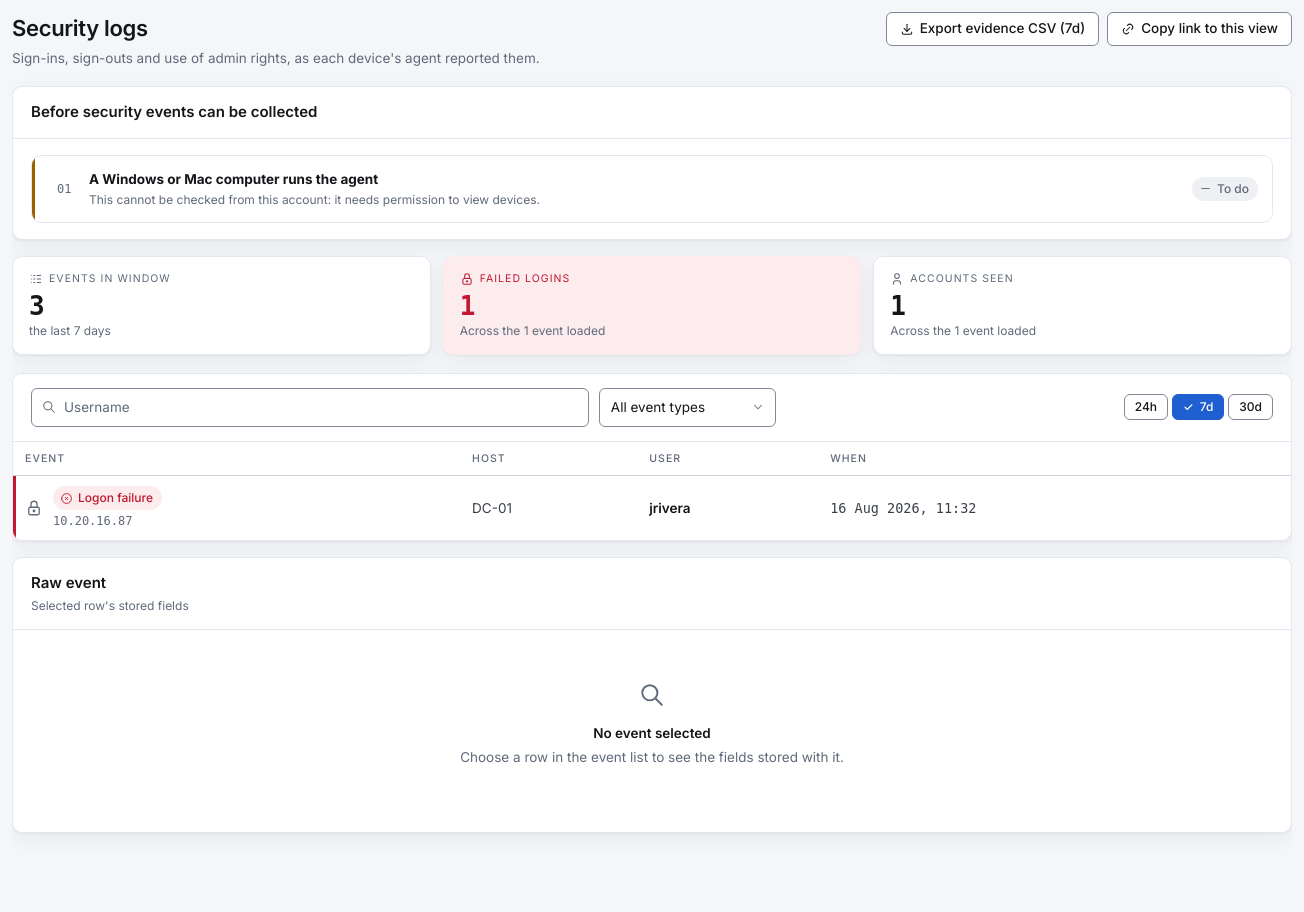
Test case: the stat tiles open the search behind them › actually navigates and re-runs the search when a tile is followed
The width and height of the screenshot is (1304, 912).
Expected: the text "DC-01" is shown, 460,476 -> 637,540
Click the link with class "stat-card" that starts with "Failed logins". click: (525, 278)
box: 443,256 -> 861,355
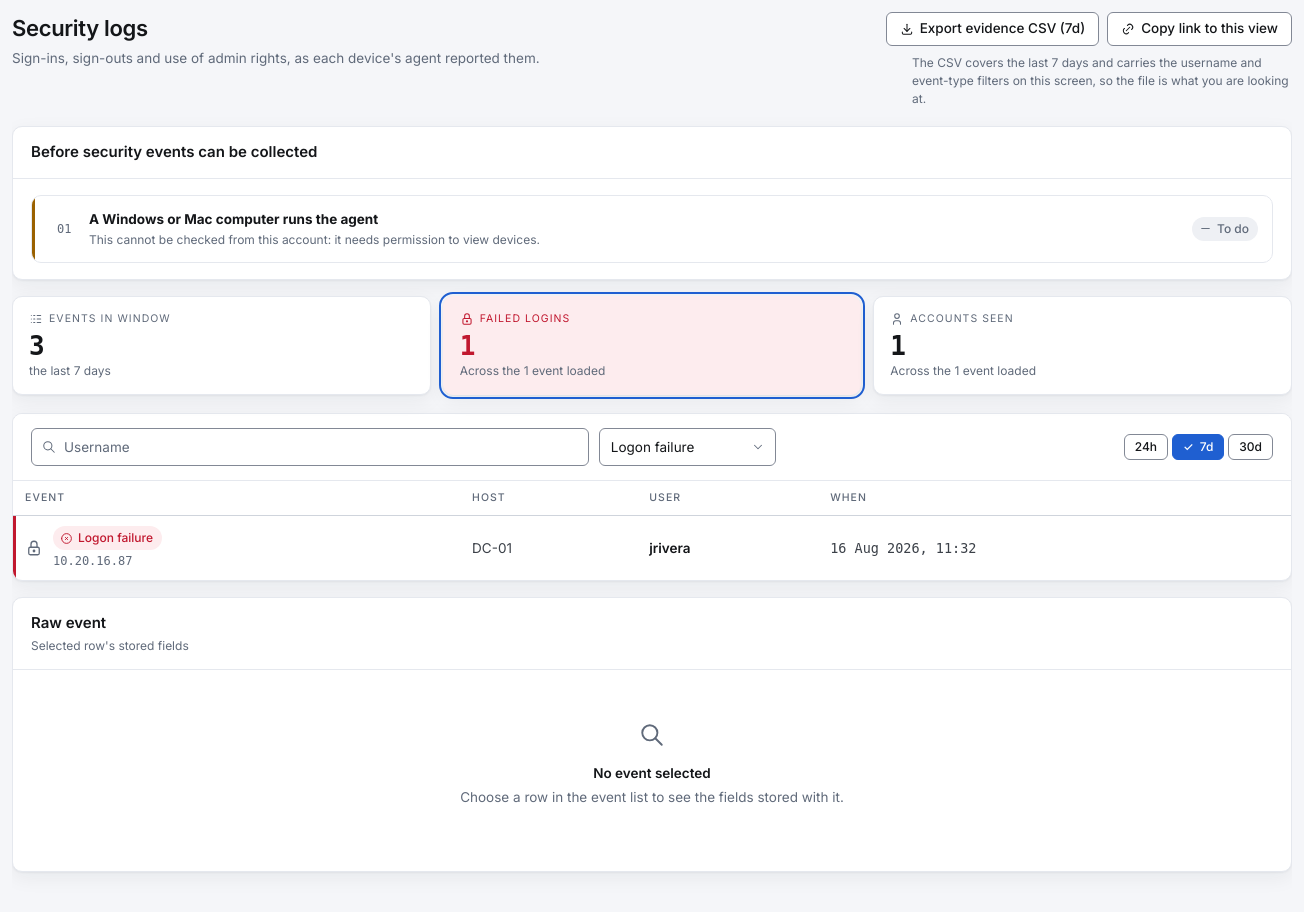
Expected: the dropdown named "Filter by event type" shows "Logon failure", 599,428 -> 776,466
